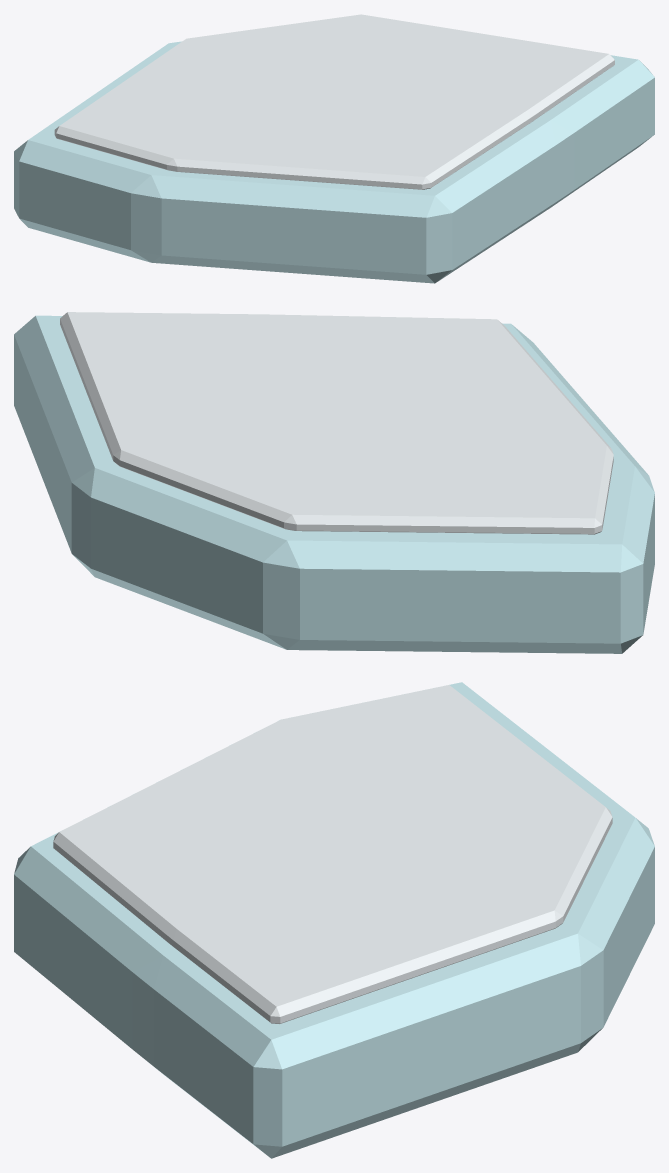
File: ice_floe_a.glb
3 views of the same model, one above another, from view 1: azimuth 30°, elevation 25°; view 2: azimuth 150°, elevation 25°; view 3: azimuth 270°, elevation 25° (orthographic). The views are drawn at different scales.
Parts seen in each view (by area): view 1: ice_floe_a; view 2: ice_floe_a; view 3: ice_floe_a.
Part boxes in pixels (x1,y1,x2,y2): ice_floe_a: (14,14,654,283); ice_floe_a: (14,312,654,653); ice_floe_a: (14,682,654,1158).
Bounding box in the file's own units: 1.35 × 0.225 × 0.9765.
